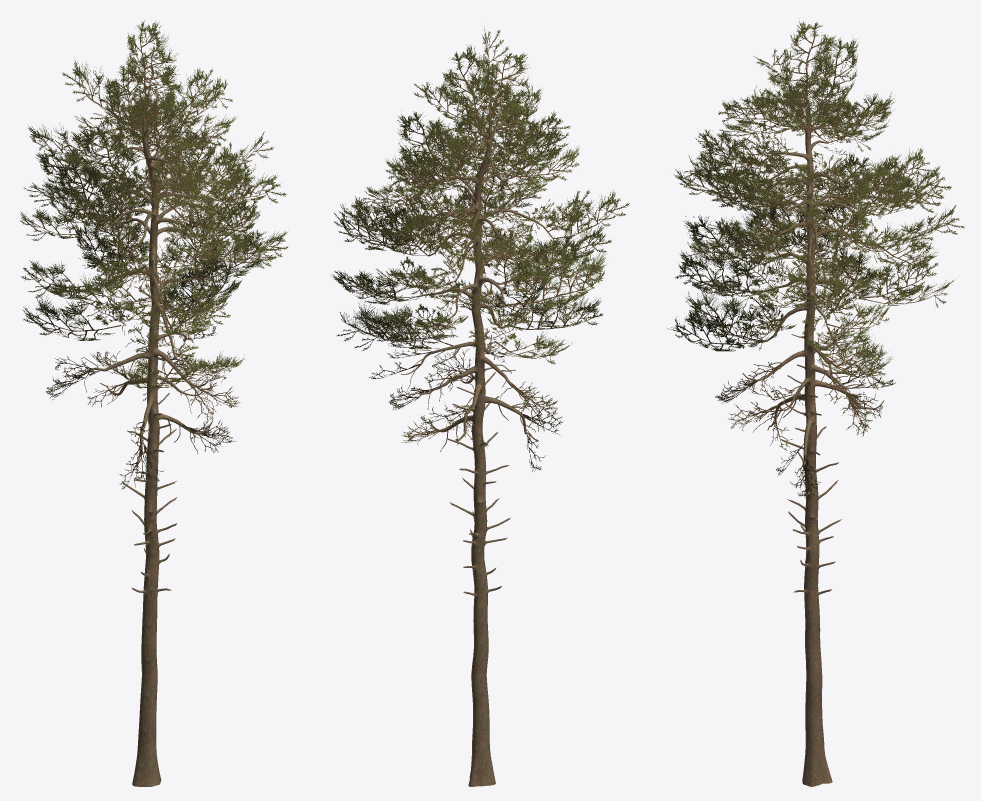
File: SM_Pine_04.fbx
3 views of the same model, side by side, from view 1: azimuth 30°, elevation 25°; view 2: azimuth 150°, elevation 25°; view 3: azimuth 270°, elevation 25° (orthographic).
Visible parts, largest first — view 1: SM_Pine_04_LOD0; view 2: SM_Pine_04_LOD0; view 3: SM_Pine_04_LOD0.
Boxes of the visible parts, <box> form: SM_Pine_04_LOD0: <box>20,20,287,786</box>; SM_Pine_04_LOD0: <box>331,28,629,786</box>; SM_Pine_04_LOD0: <box>667,18,964,786</box>.
Size of what is drawn, in the model's own units: 926 by 2689 by 964.
Materials: 2 (2 with a texture image).
